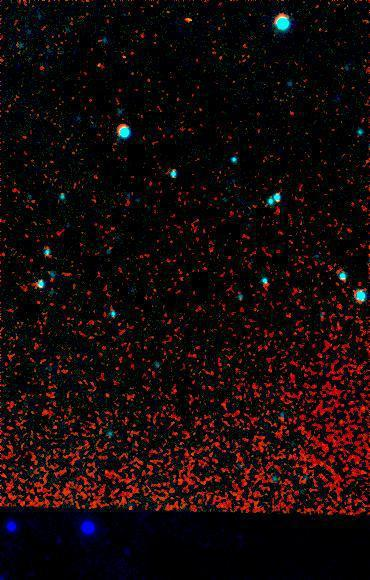star: (175, 4, 205, 34)
